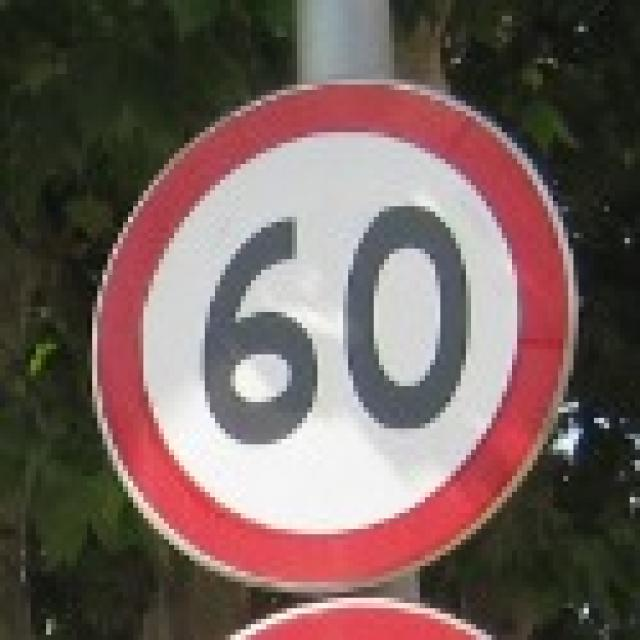Speed Limit -60-: (198, 203, 478, 450)
